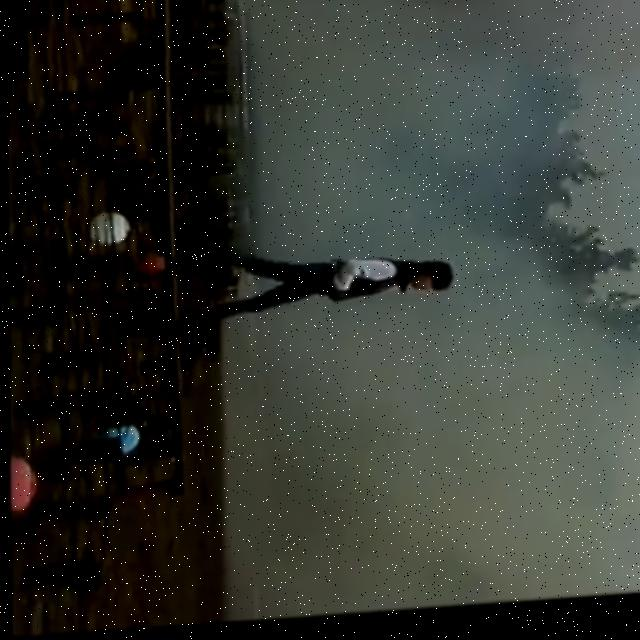balloon: (3, 454, 39, 514), (82, 216, 130, 247), (102, 423, 142, 458), (134, 247, 167, 278)
